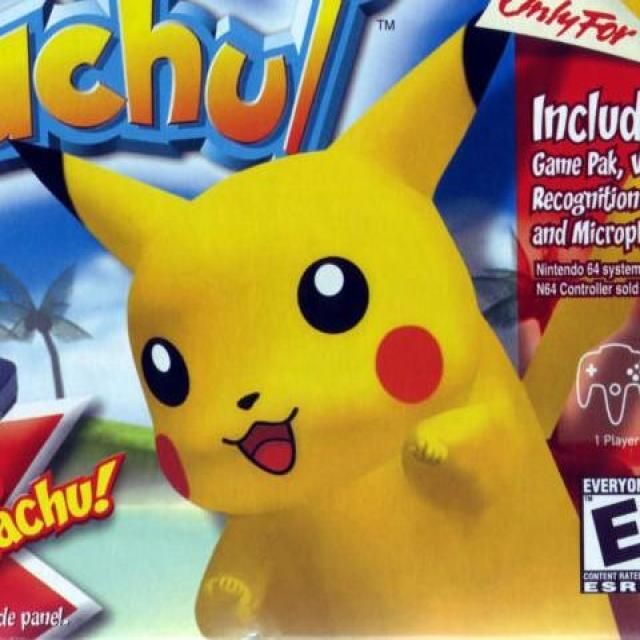pikachu: (7, 13, 594, 639)
